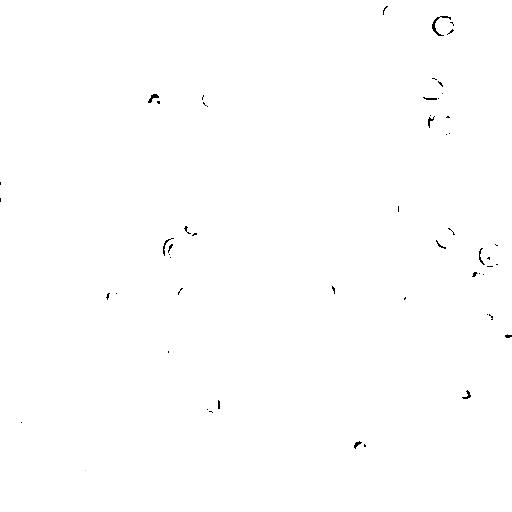micro-algae: (27, 21, 159, 147), (160, 323, 243, 406), (1, 212, 45, 294), (150, 1, 234, 42), (82, 245, 130, 294), (224, 79, 254, 115), (71, 282, 102, 315), (427, 107, 459, 138), (137, 237, 170, 267), (14, 451, 45, 479), (107, 415, 135, 445), (4, 407, 35, 434), (161, 235, 190, 263), (416, 75, 446, 101), (385, 280, 411, 306), (431, 12, 457, 37), (479, 241, 503, 267), (76, 462, 101, 485), (410, 351, 433, 375), (355, 459, 380, 481), (94, 257, 119, 279), (250, 401, 271, 426), (467, 271, 491, 292), (436, 225, 455, 249), (147, 91, 169, 111), (317, 279, 336, 302), (272, 17, 293, 37), (6, 1, 27, 19), (381, 4, 400, 23), (176, 284, 195, 303), (455, 382, 475, 400), (206, 392, 221, 415), (203, 89, 219, 109), (156, 341, 177, 356), (181, 221, 201, 236), (302, 503, 335, 512), (2, 181, 15, 203), (326, 435, 343, 451), (353, 437, 368, 455), (397, 198, 411, 217), (478, 311, 496, 325), (55, 92, 69, 109), (418, 201, 429, 220), (497, 324, 511, 338), (107, 289, 121, 302), (119, 503, 138, 511), (199, 0, 216, 3)
